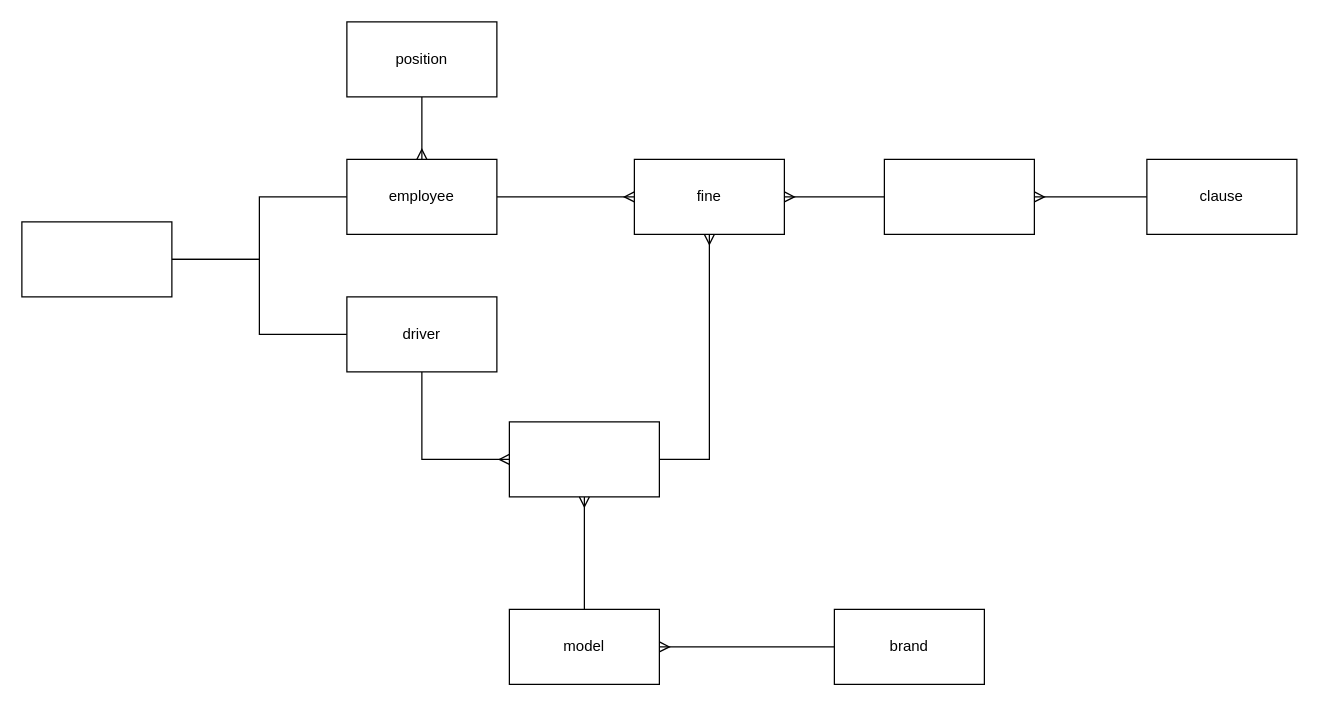
This 1319x706 diagram has some shape labels left out. Each missing label, with the centre of its shape:
"car" belongs at point (583, 459).
"paragraph" belongs at point (958, 196).
"person" belongs at point (96, 259).
